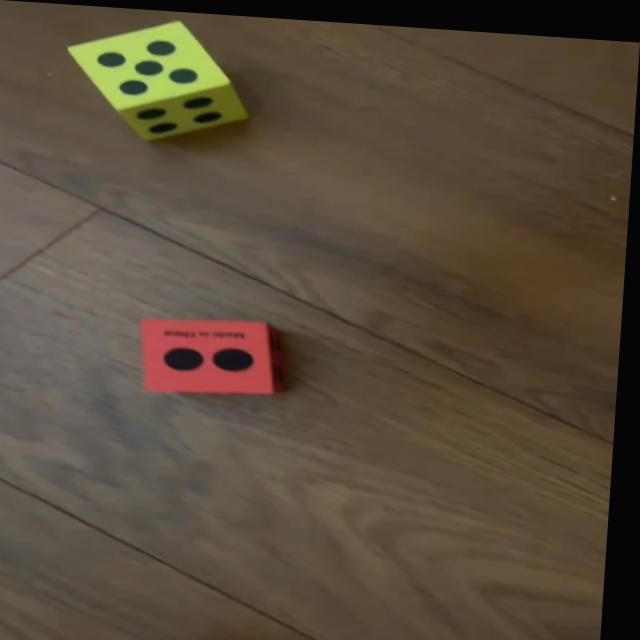cube: (144, 313, 288, 396)
